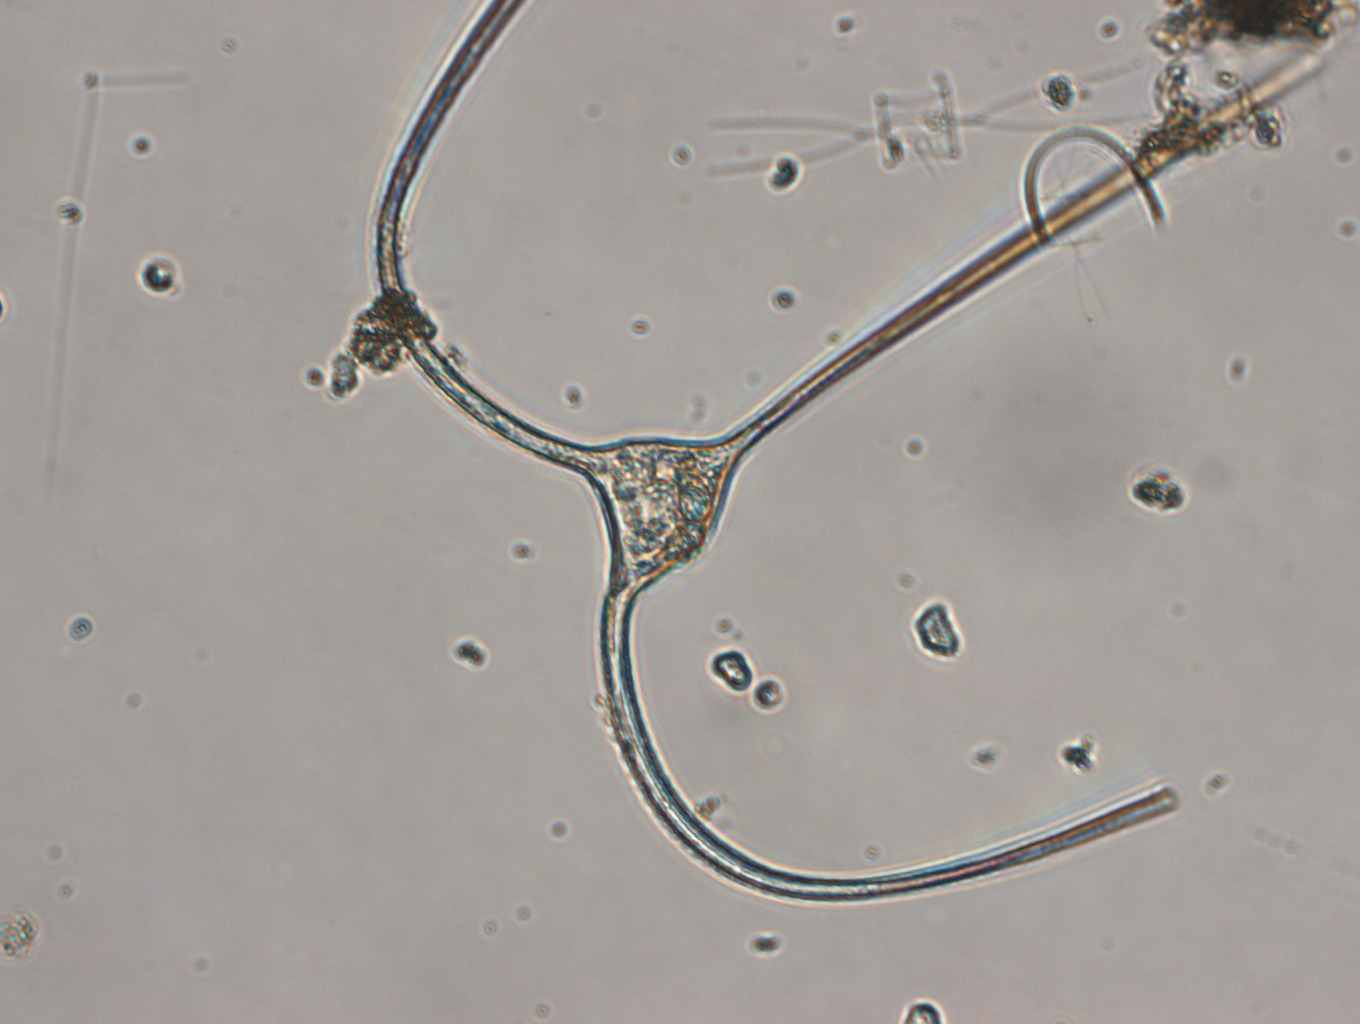ceratium trichoceros: (368, 8, 1360, 904)
